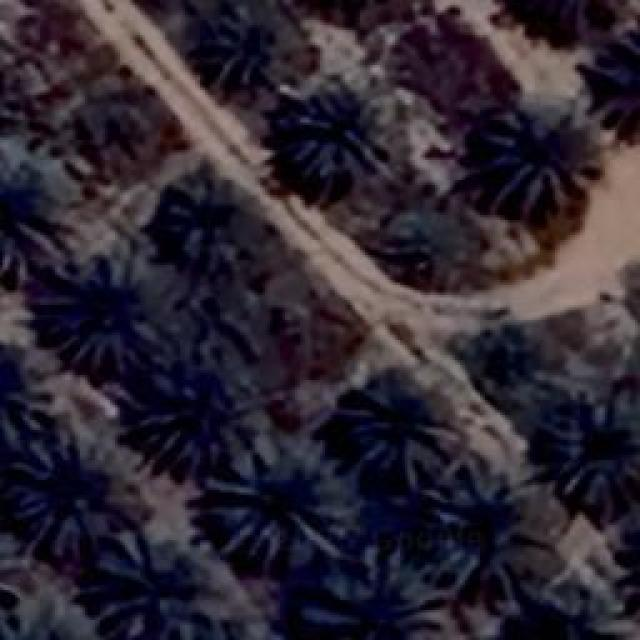PalmTree: (21, 88, 611, 396), (208, 435, 350, 563), (90, 528, 235, 638), (10, 435, 140, 555), (427, 462, 545, 590), (50, 255, 155, 375), (282, 80, 388, 182), (350, 380, 458, 480), (552, 390, 638, 512), (480, 108, 575, 218), (200, 2, 310, 90), (384, 192, 468, 296), (304, 565, 418, 640), (0, 148, 58, 274), (172, 176, 246, 259), (145, 384, 225, 458), (516, 585, 622, 640), (0, 587, 92, 640), (507, 0, 632, 27), (614, 502, 640, 628), (0, 512, 26, 632), (621, 502, 640, 626), (164, 624, 290, 640)
